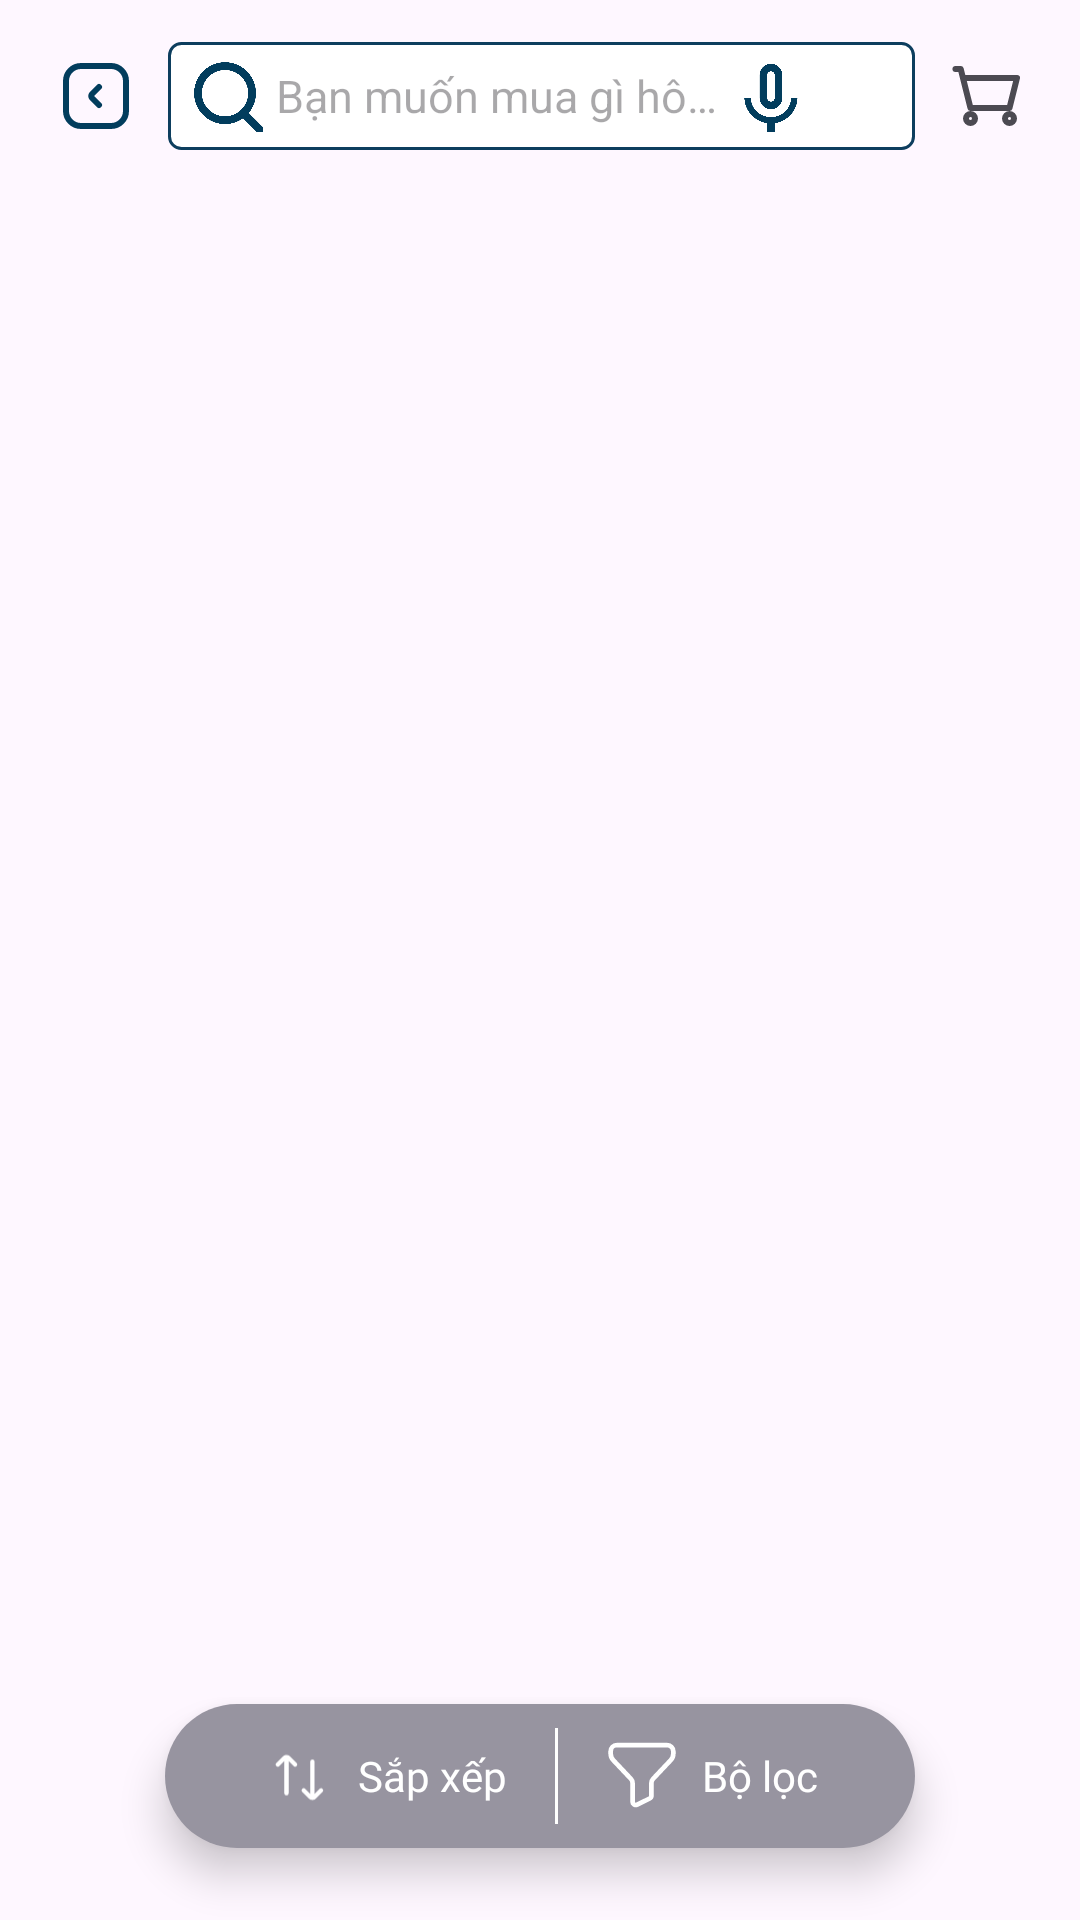

Locate icon controls on the screen. Image size 1080×1920, boxes as (x1, y1, x2, y2).
Back: (63, 63, 129, 129)
Cart: (952, 66, 1020, 126)
filter: (608, 1742, 676, 1808)
Search: (194, 62, 263, 132)
sort: (275, 1754, 323, 1801)
Voice: (744, 64, 798, 132)
